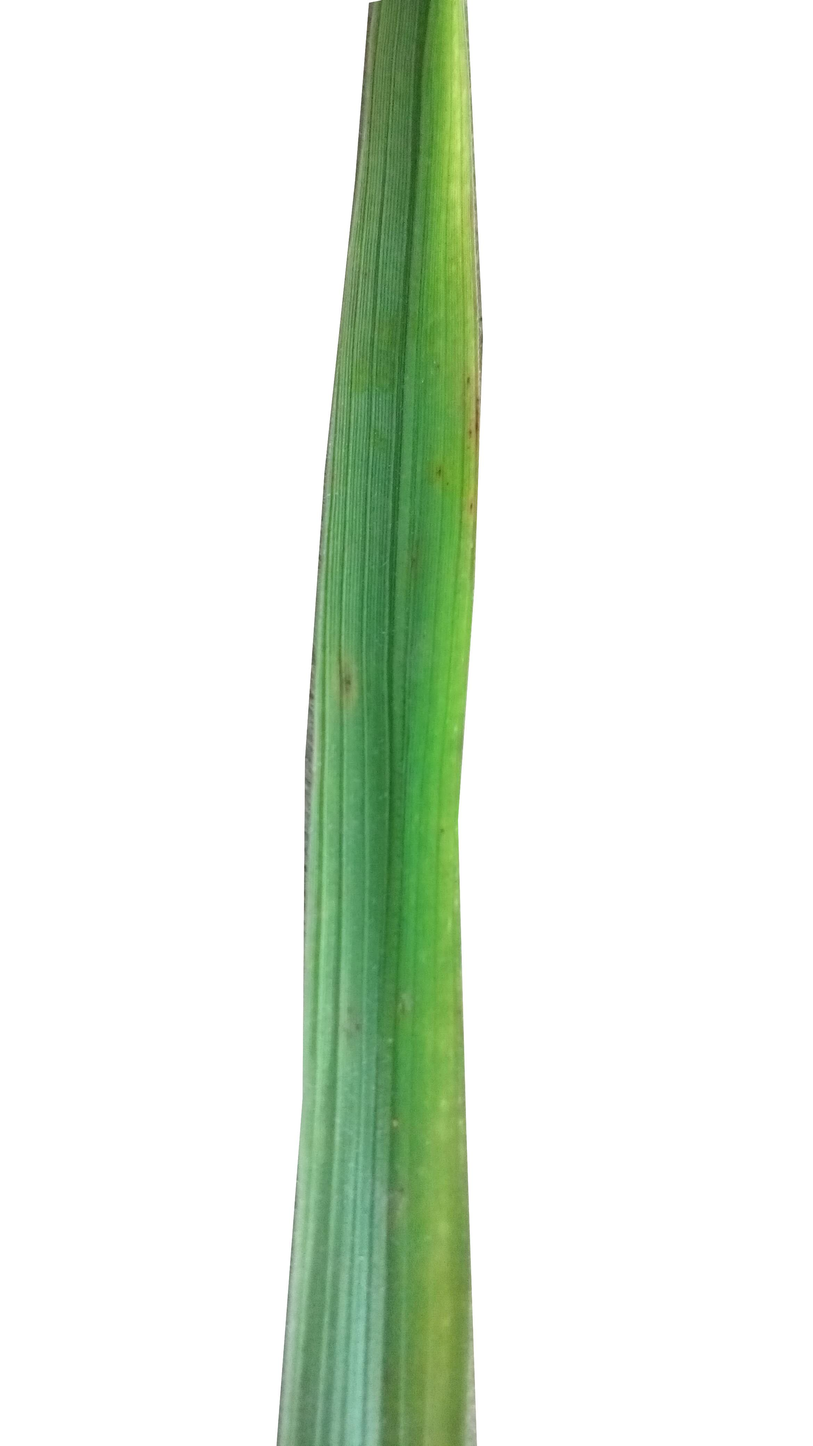Tungro: (372, 3, 476, 414)
